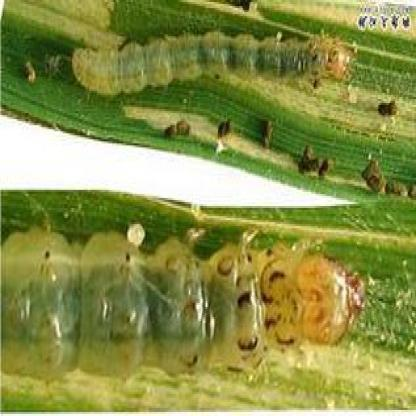leaf-folder: (6, 205, 360, 392), (50, 20, 361, 116)
